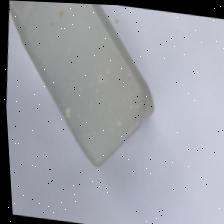plastic: (0, 0, 167, 177)
